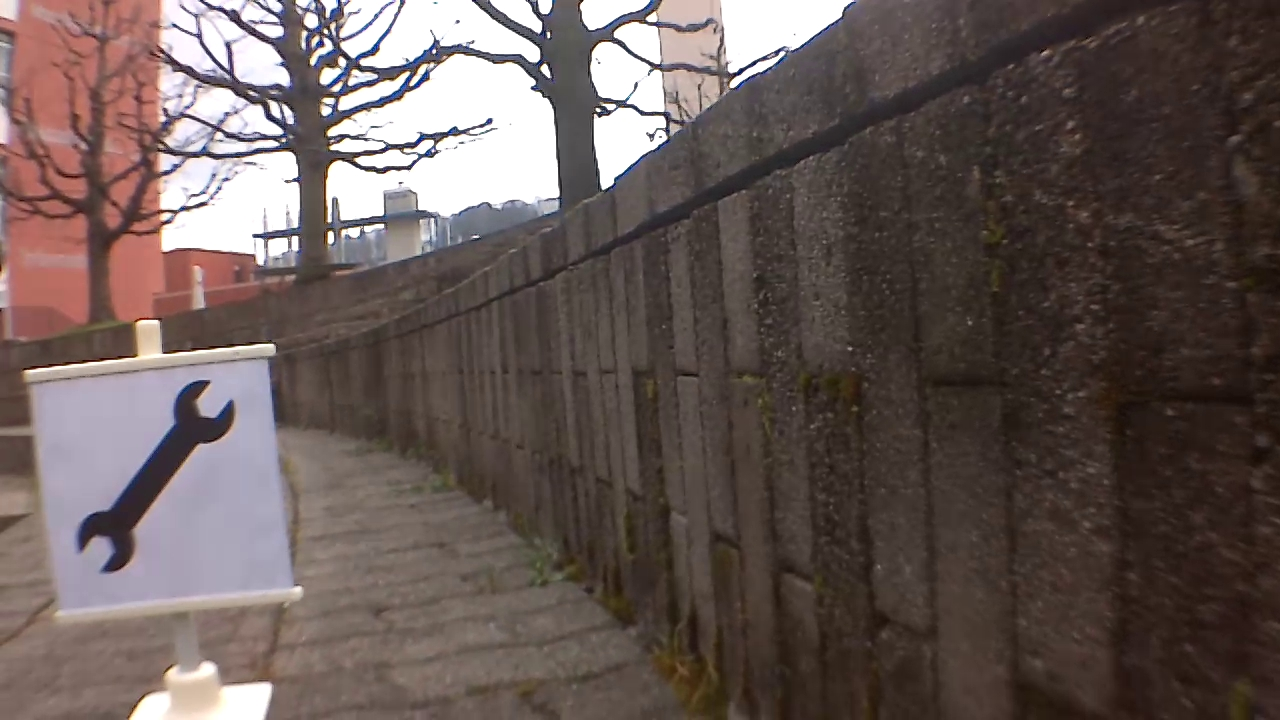wrench: (77, 376, 250, 576)
